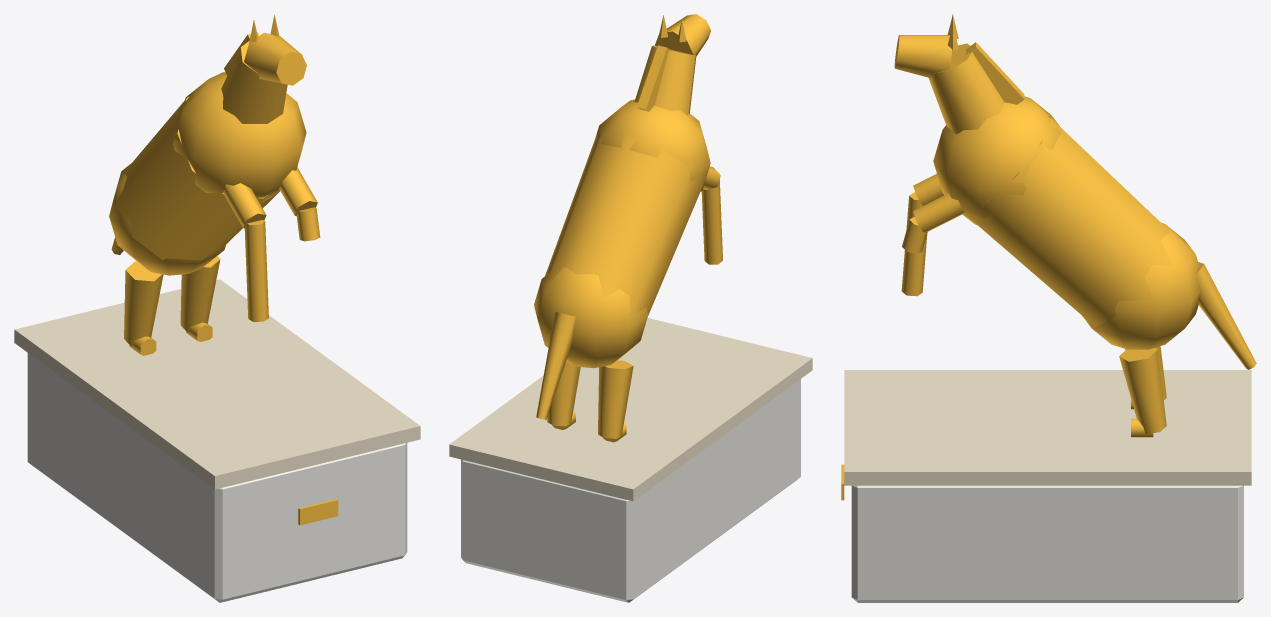
The model's file is horse_statue.glb.
3 renders of one model, left to right at view 1: azimuth 30°, elevation 25°; view 2: azimuth 150°, elevation 25°; view 3: azimuth 270°, elevation 25°, orthographic. The views are drawn at different scales.
Visible parts, largest first — view 1: horse_statue; view 2: horse_statue; view 3: horse_statue.
Part boxes in pixels (left/top/right/bottom): horse_statue: left=14, top=14, right=420, bottom=602; horse_statue: left=449, top=14, right=812, bottom=602; horse_statue: left=841, top=14, right=1256, bottom=602.
Bounding box in the file's own units: 1.6 × 3.94 × 2.75.
